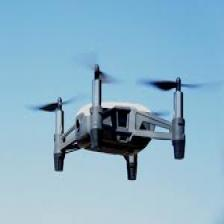drone: (49, 62, 188, 182)
